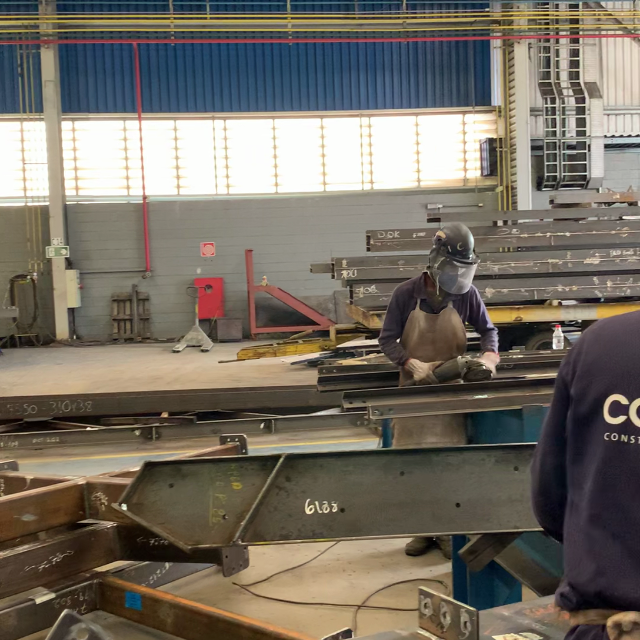face-shield: (428, 255, 482, 294)
glove: (403, 359, 441, 381), (467, 351, 503, 374), (610, 545, 640, 561)
helmet: (433, 223, 477, 258)
person: (379, 221, 500, 376)
safety-shoe: (403, 537, 436, 555)
